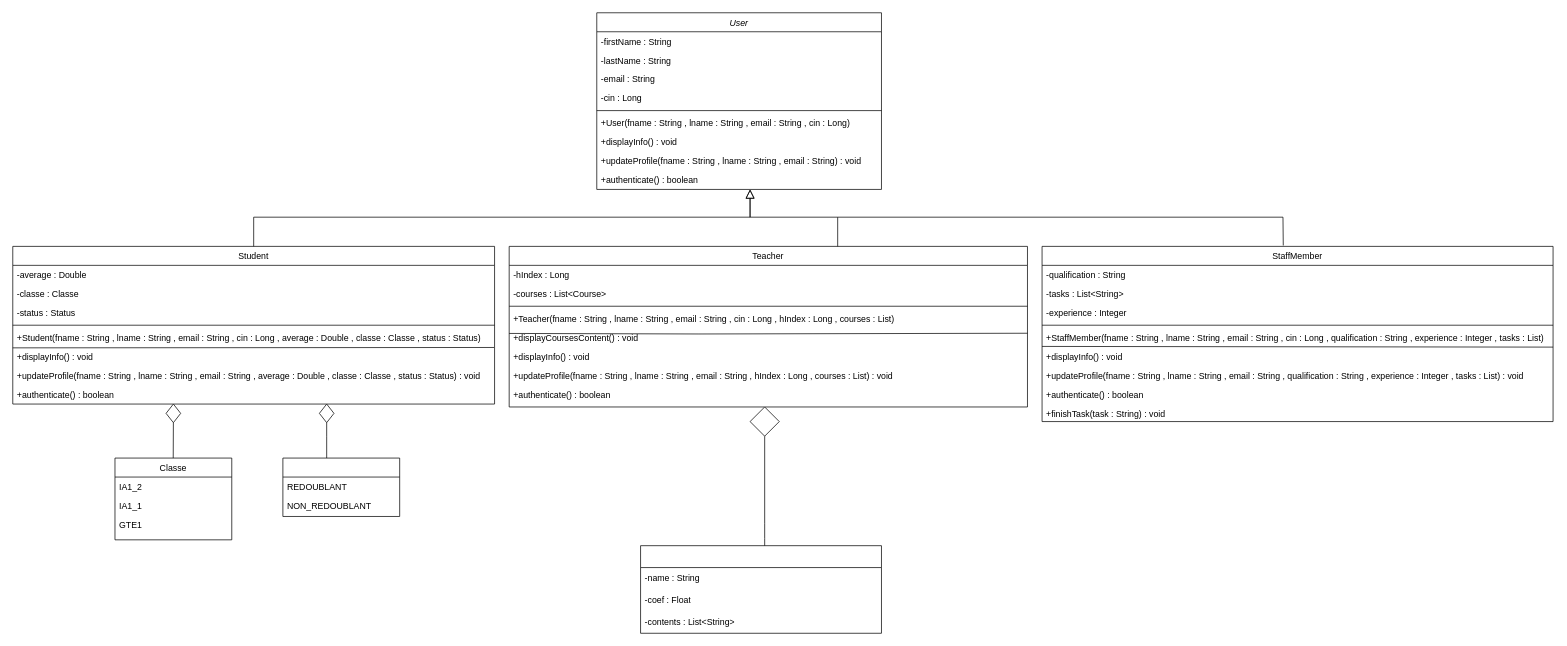
The diagram is 1567 pixels wide and 646 high, and some of its shapes have lost their labels. The box of each missing label's shape, as (x1, y1, x2, y2) in pixels:
Course: (640, 545, 881, 633)
Status: (282, 457, 400, 516)
